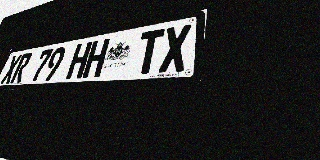7: (29, 49, 54, 82)
9: (42, 46, 67, 81)
H: (82, 38, 110, 78), (65, 42, 93, 79)
R: (10, 52, 33, 83)
T: (133, 28, 165, 75)
X: (158, 24, 191, 73), (0, 54, 22, 84)
